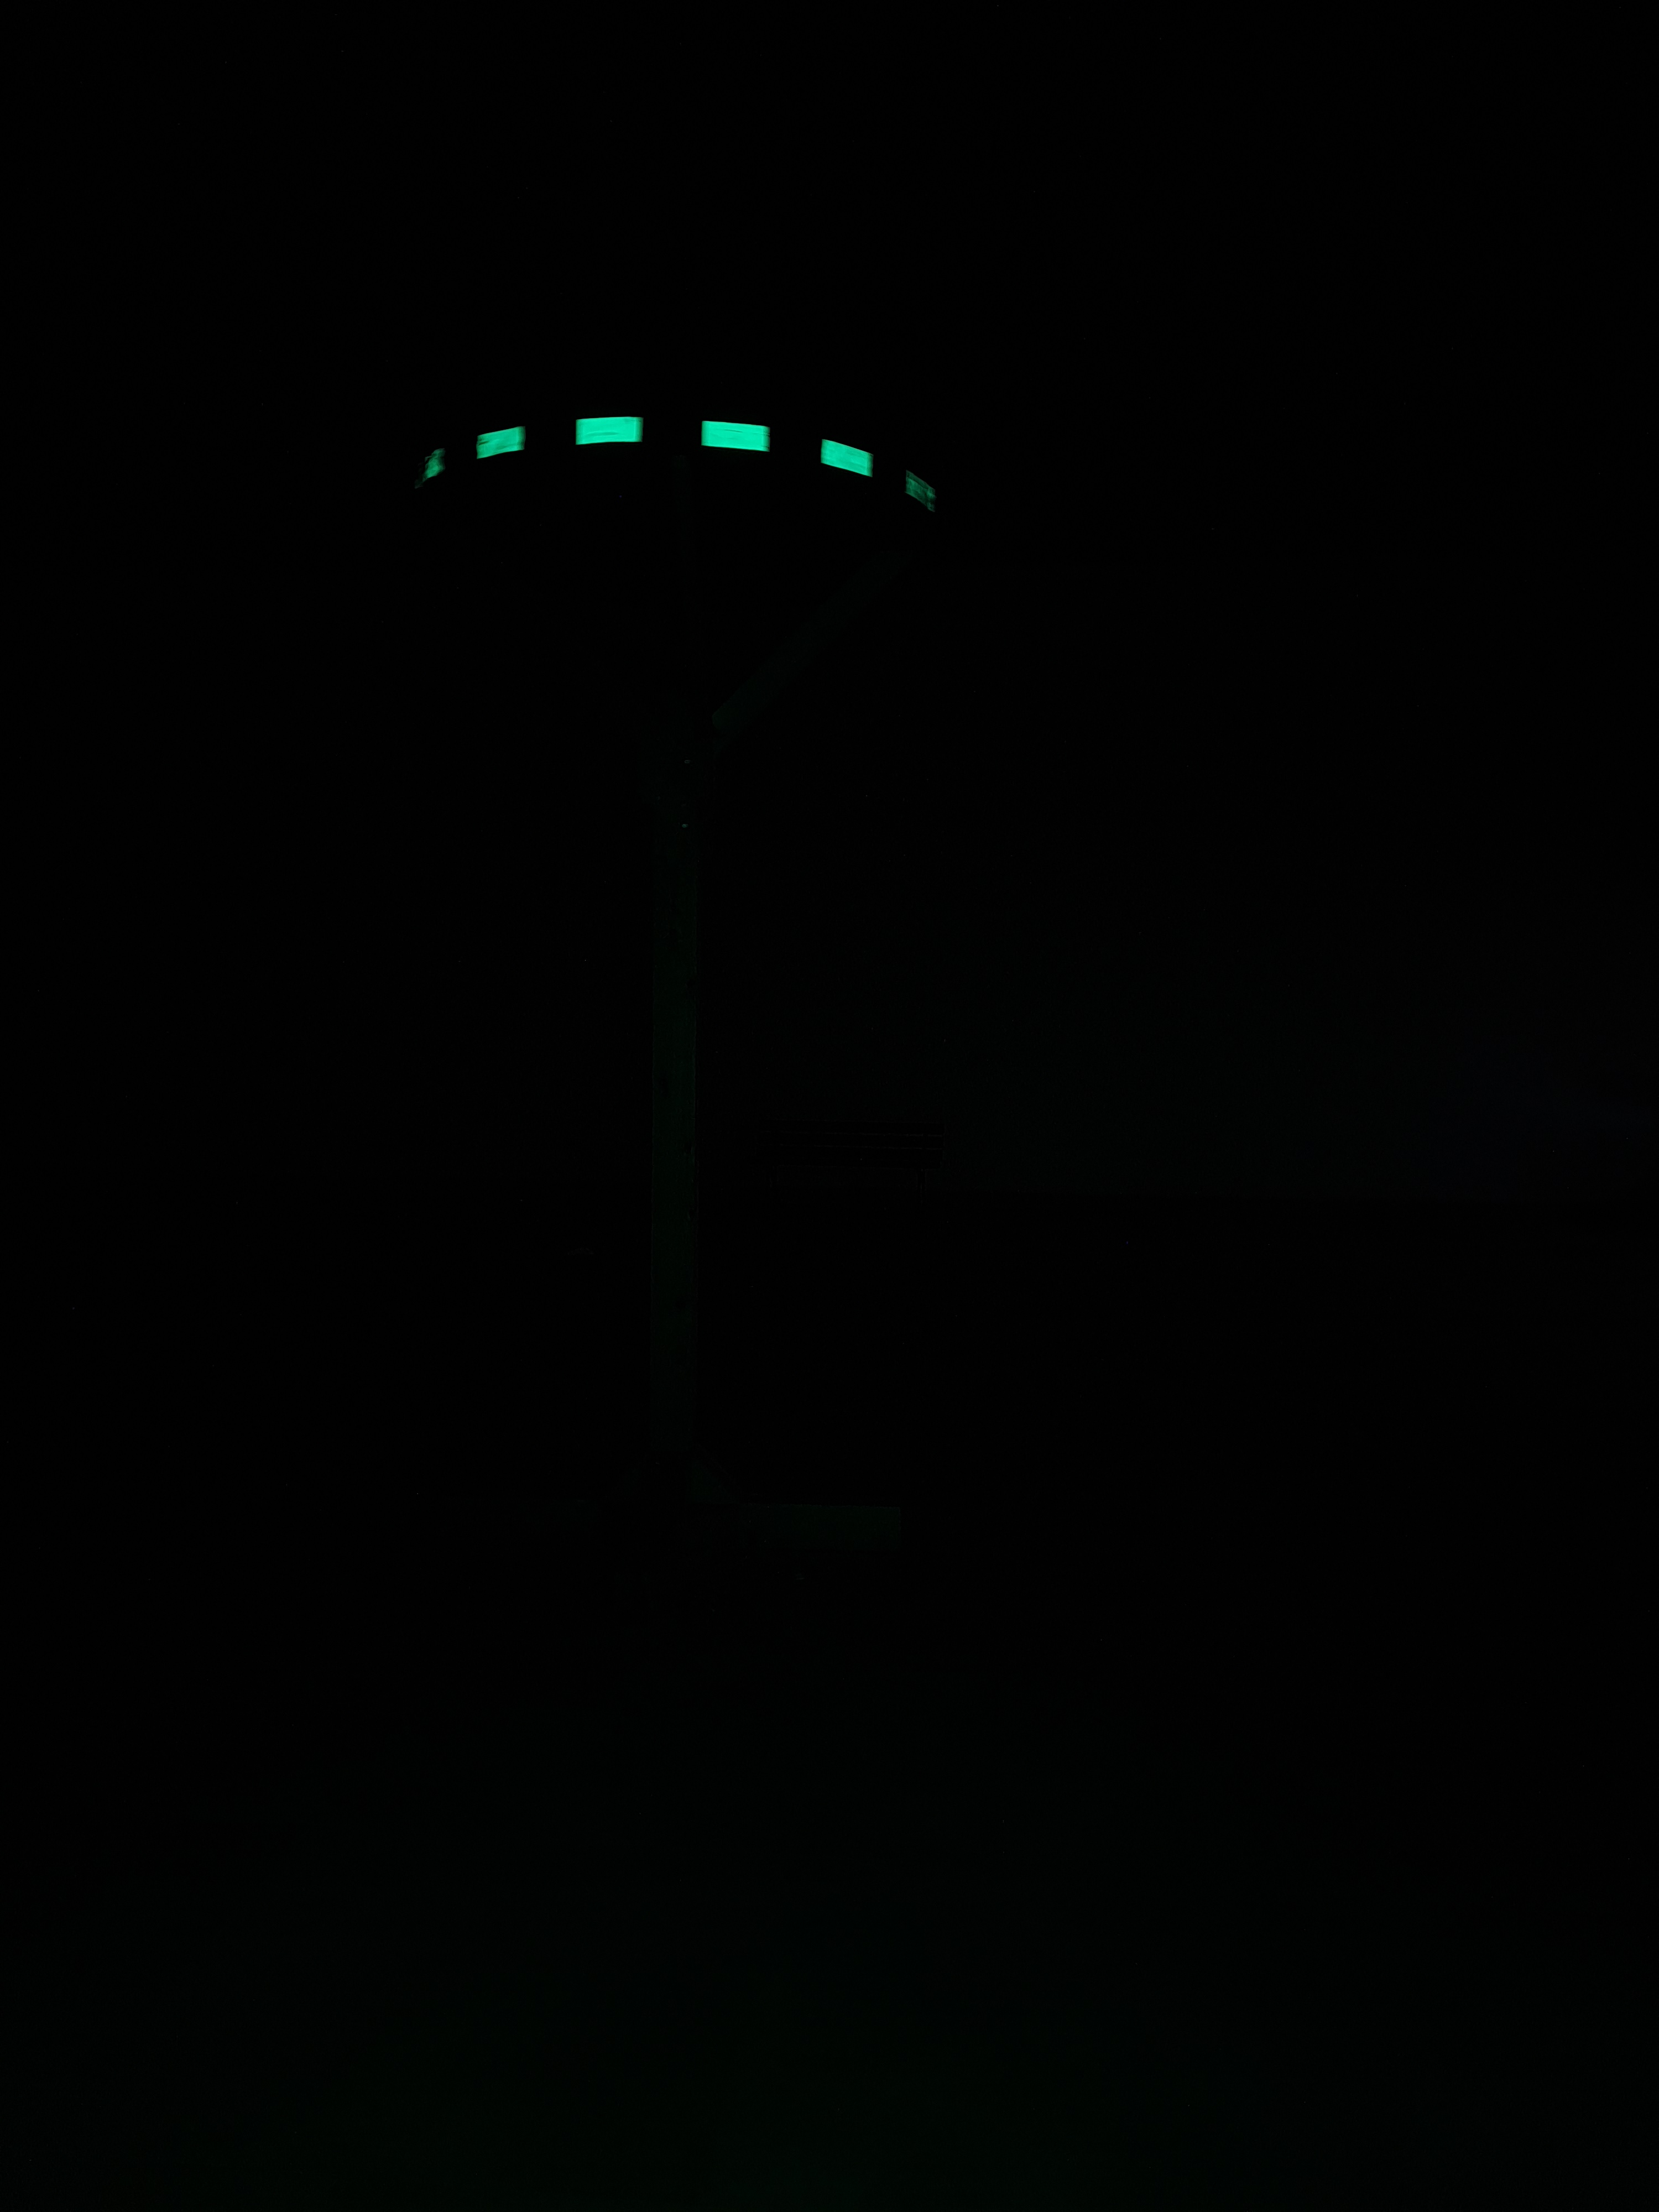hoop: (408, 404, 941, 535)
